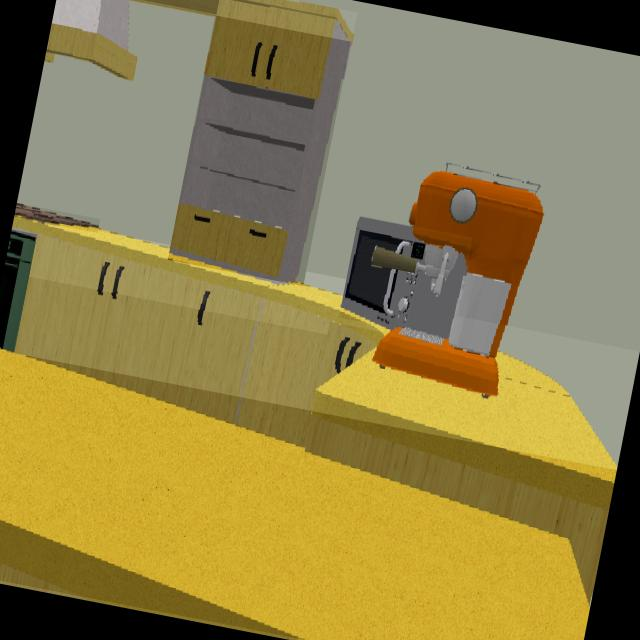cabinet: (16, 236, 607, 596), (171, 0, 350, 282)
countertop: (0, 351, 589, 640), (312, 351, 617, 511), (14, 219, 383, 344)
microwave: (342, 218, 466, 338)
oven: (0, 230, 36, 351)
shelf: (231, 0, 352, 40)
stove: (15, 204, 98, 228)
